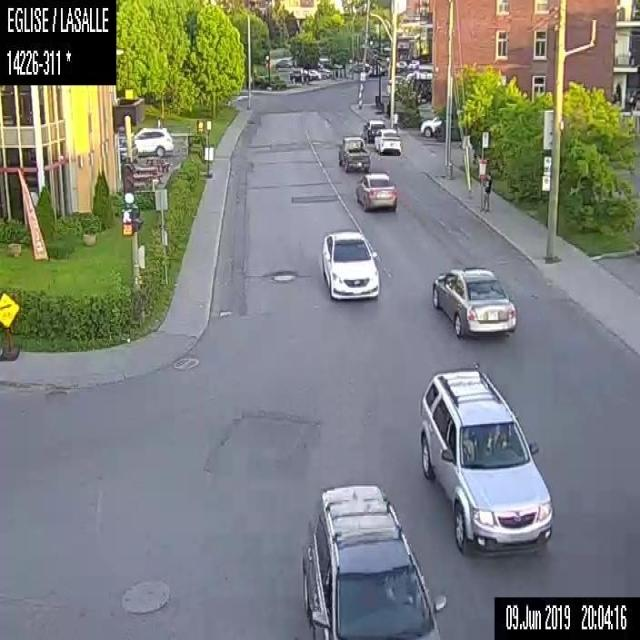pedestrian: (479, 171, 491, 213)
vehicle: (416, 365, 553, 555), (300, 481, 446, 639), (430, 266, 516, 338), (319, 226, 380, 298), (354, 168, 397, 212), (336, 134, 371, 171), (133, 125, 173, 156), (373, 127, 401, 155), (418, 113, 444, 136), (360, 117, 385, 139), (290, 67, 312, 83), (275, 56, 291, 67), (306, 67, 319, 79)
